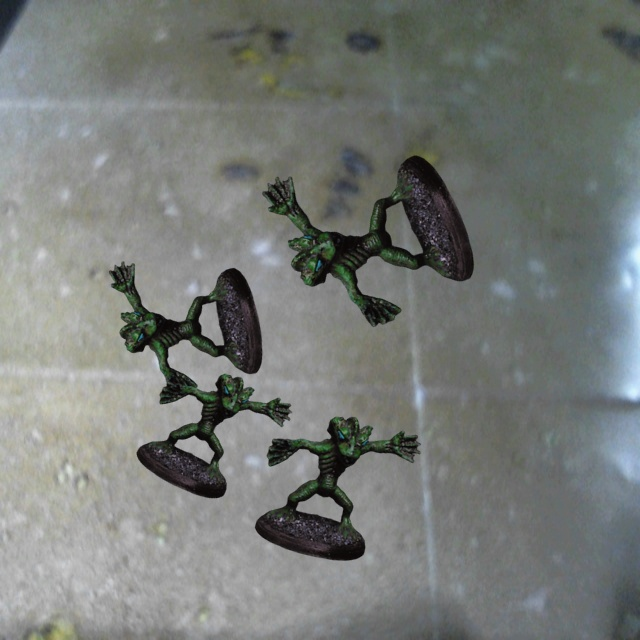pieza_juego: (262, 155, 473, 326), (255, 417, 420, 560), (109, 261, 262, 394), (136, 374, 291, 497)
